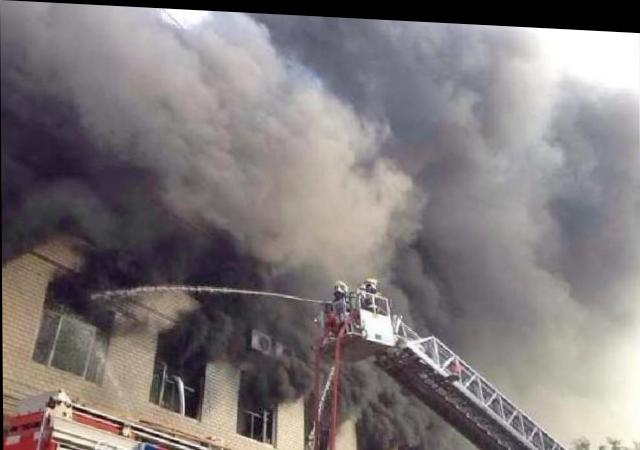smoke: (477, 71, 640, 390), (254, 62, 474, 290), (161, 7, 559, 73), (12, 1, 157, 159), (158, 58, 251, 251), (252, 348, 376, 405), (355, 396, 452, 449), (171, 301, 235, 355)
